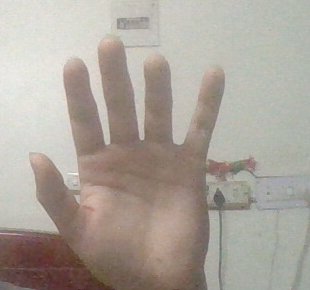move: (23, 32, 231, 281)
